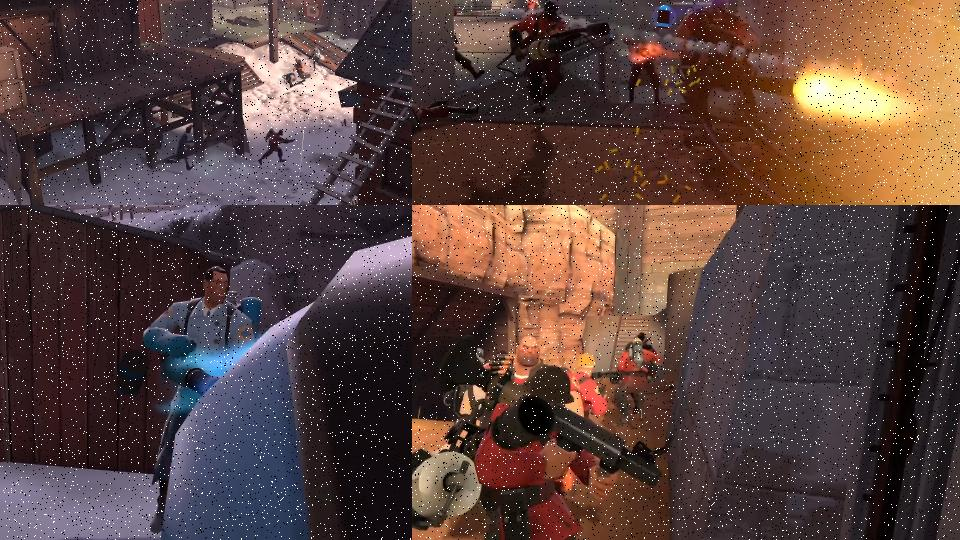Enemy: (433, 339, 662, 540), (141, 264, 266, 537), (412, 335, 581, 532), (671, 0, 797, 127), (496, 0, 611, 114), (591, 337, 662, 429), (623, 19, 664, 106), (569, 352, 608, 416), (163, 126, 199, 171), (258, 128, 294, 166), (293, 58, 307, 79), (312, 46, 324, 70), (524, 0, 540, 14)
